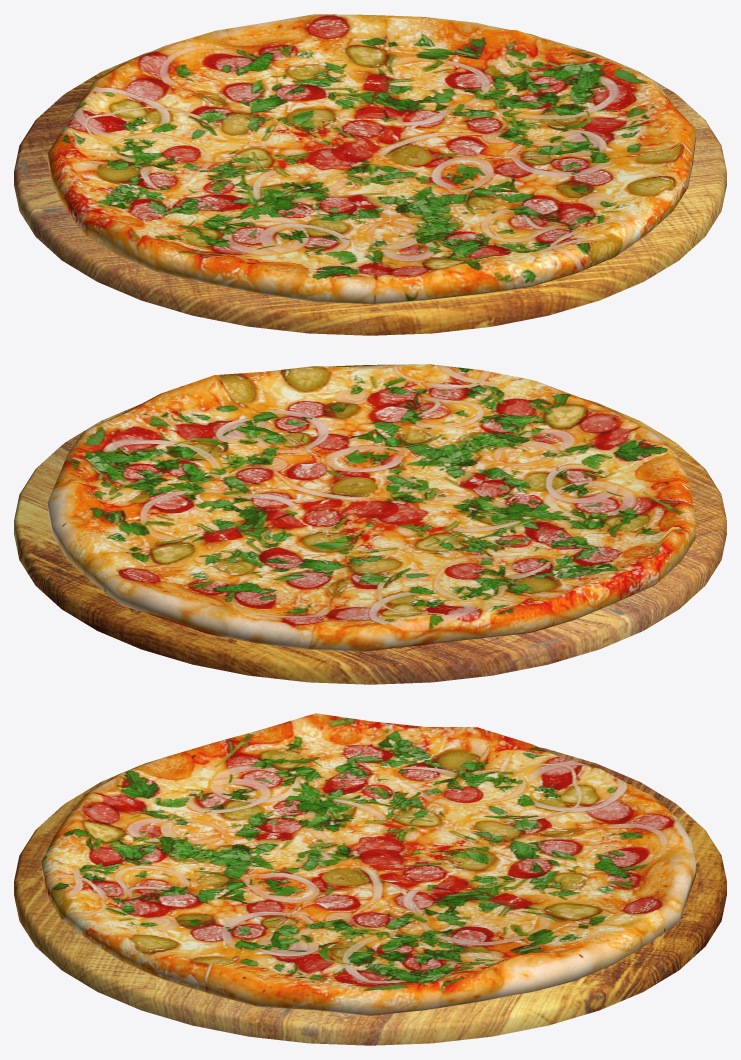
Rendered from 意式菜品餐厅.gltf.
3 views of the same model, one above another, from view 1: azimuth 30°, elevation 25°; view 2: azimuth 150°, elevation 25°; view 3: azimuth 270°, elevation 25° (orthographic).
Visible parts, largest first — view 1: node_Pizza_-49966; view 2: node_Pizza_-49966; view 3: node_Pizza_-49966.
Boxes of the visible parts, x1=… form: node_Pizza_-49966: x1=14, y1=14, x2=726, y2=335; node_Pizza_-49966: x1=14, y1=364, x2=726, y2=684; node_Pizza_-49966: x1=14, y1=713, x2=726, y2=1045.
Bounding box in the file's own units: 0.3879 × 0.0289 × 0.3879.
